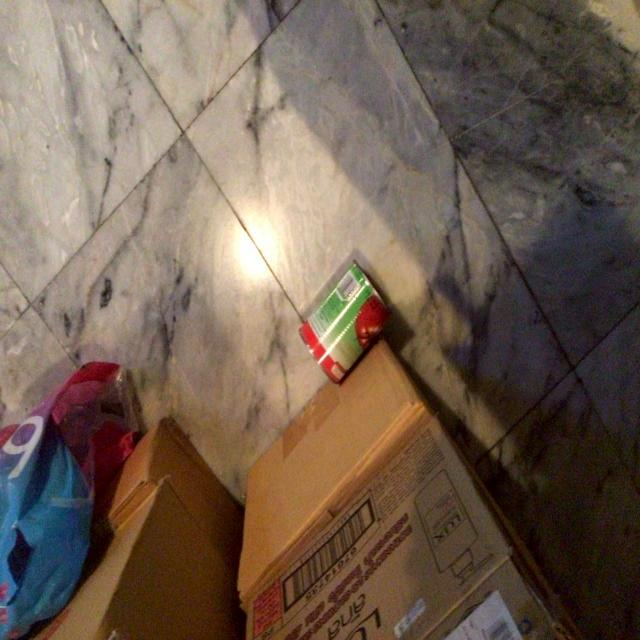can: (298, 259, 387, 384)
